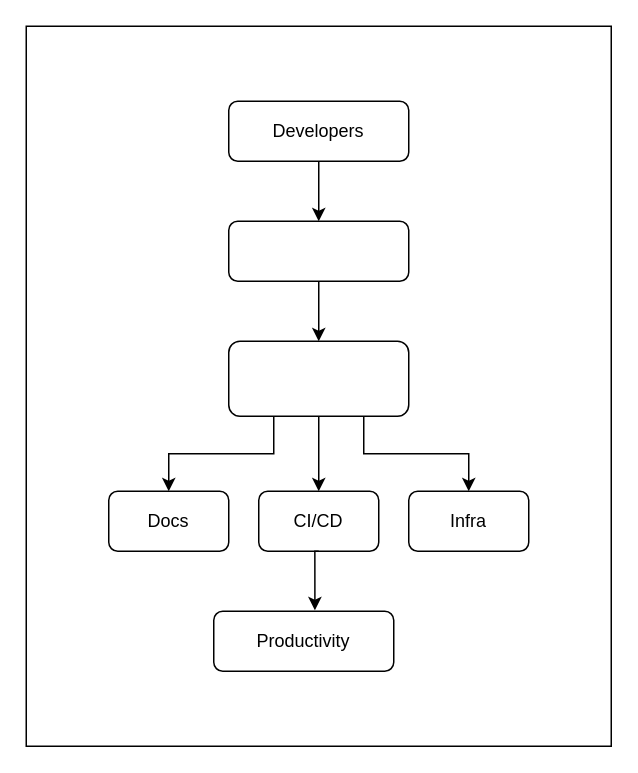
The diagram is 638 pixels wide and 773 high, and some of its shapes have lost their labels. Each missing label, with the box of its shape:
Automation Layer: (227, 340, 409, 416)
Internal Platform: (227, 220, 409, 281)
